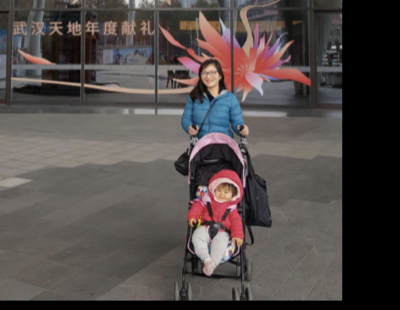without_mask: (201, 66, 219, 84), (215, 182, 231, 200)
